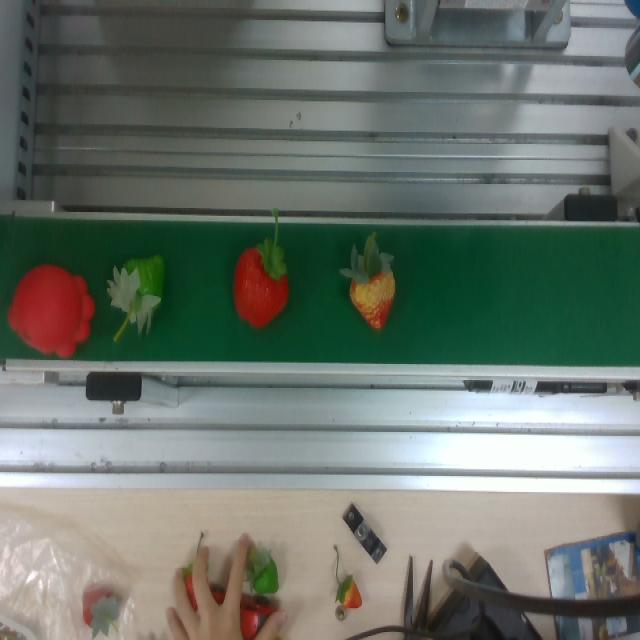Large Ripe Strawberry: (231, 207, 292, 329)
Moldy Strawberry: (325, 243, 402, 334)
None - Strawberry: (9, 267, 97, 363)
Small Unripe Strawberry: (104, 242, 174, 332)
conveyor: (3, 209, 640, 378)
